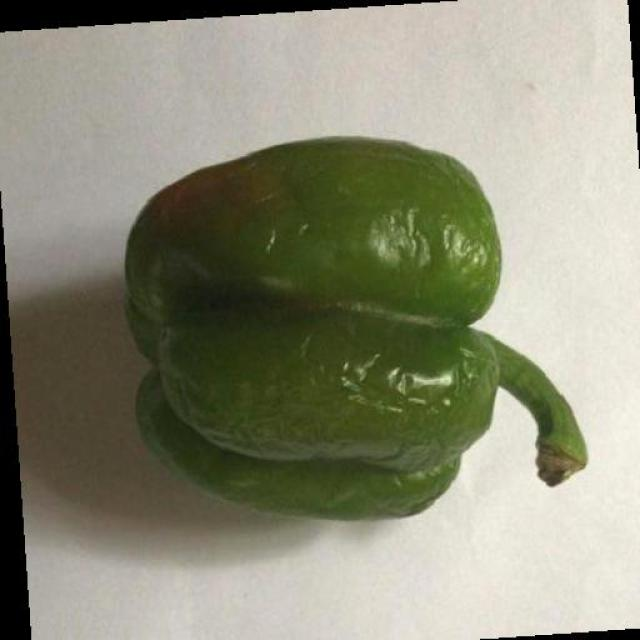Stale_Capsicum: (98, 134, 580, 552)
